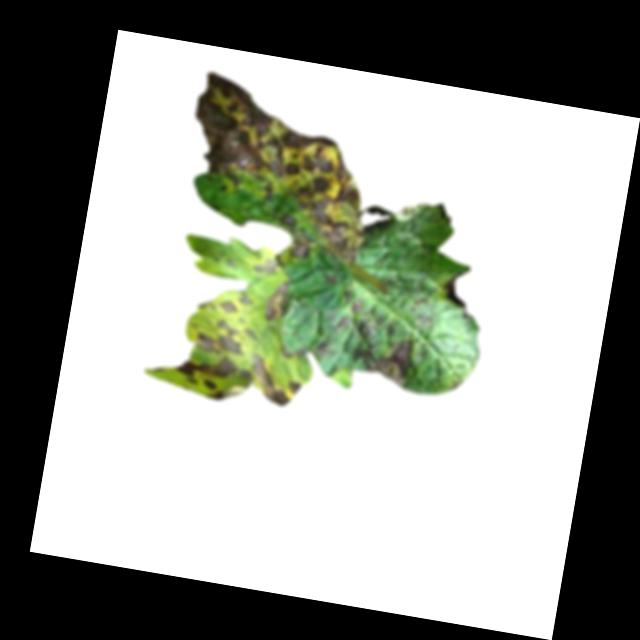Early_blight: (175, 69, 386, 256), (350, 320, 416, 390), (170, 348, 251, 404), (245, 351, 306, 409), (191, 313, 261, 361), (261, 276, 295, 326), (439, 269, 471, 310), (219, 289, 252, 317), (251, 255, 280, 279), (287, 242, 311, 263), (313, 337, 332, 359), (348, 297, 364, 316), (334, 316, 351, 330)
